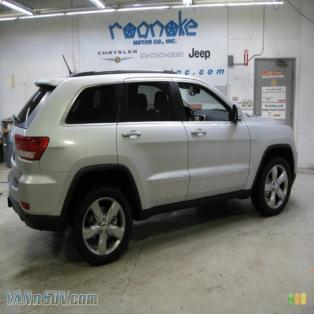Auto: (6, 76, 298, 266)
